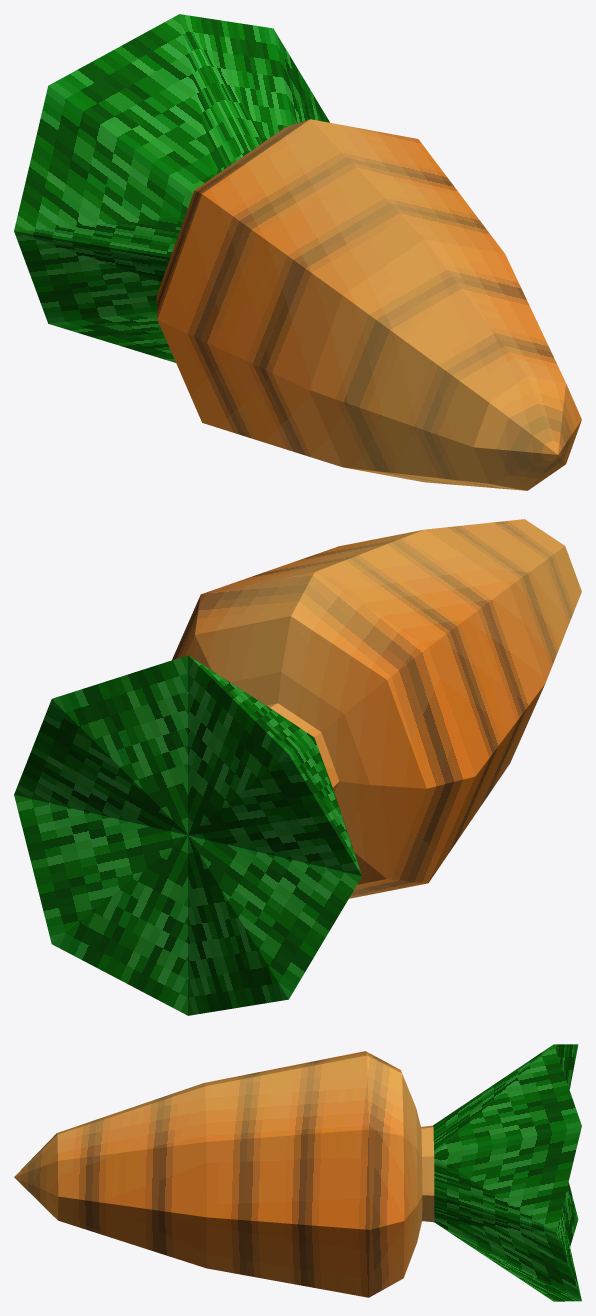
Rendered from Carrot.obj.
3 renders of one model, top to bottom at view 1: azimuth 30°, elevation 25°; view 2: azimuth 150°, elevation 25°; view 3: azimuth 270°, elevation 25°, orthographic. The views are drawn at different scales.
Visible parts, largest first — view 1: Inst3D10_RefRep.180; view 2: Inst3D10_RefRep.180; view 3: Inst3D10_RefRep.180.
Boxes of the visible parts, bbox=[...] form: Inst3D10_RefRep.180: bbox=[14, 14, 581, 490]; Inst3D10_RefRep.180: bbox=[14, 519, 581, 1015]; Inst3D10_RefRep.180: bbox=[14, 1044, 581, 1301].
Bounding box in the file's own units: 3.04 × 3.04 × 6.09.
